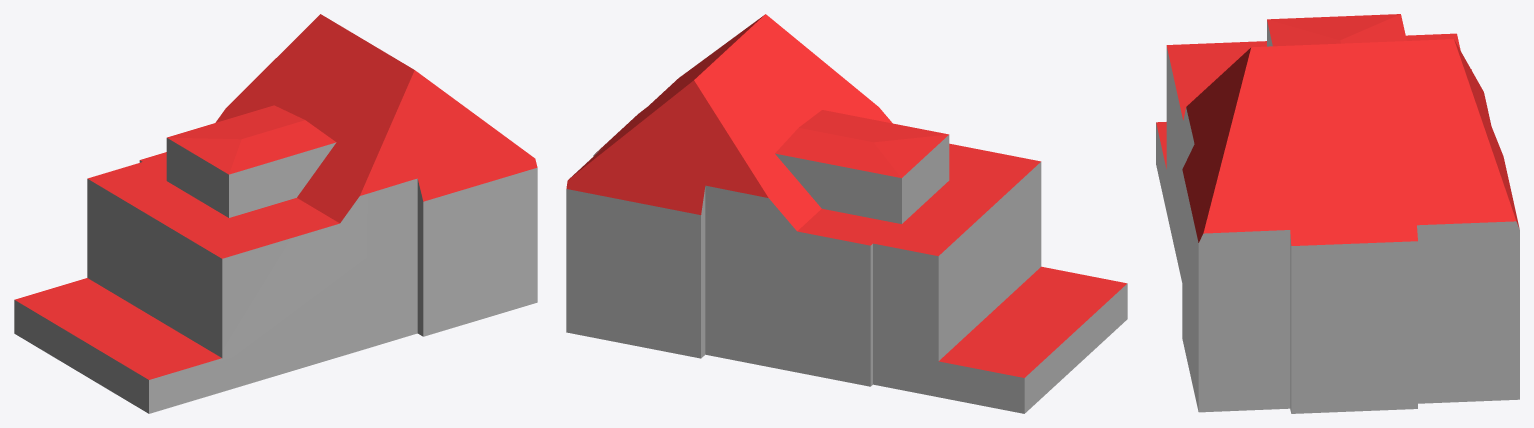
Rendered from DEBY_LOD2_4780232.dae.
The picture shows the model from 3 angles, left to right: view 1: azimuth 30°, elevation 25°; view 2: azimuth 150°, elevation 25°; view 3: azimuth 270°, elevation 25°; orthographic projection. The views are drawn at different scales.
Size of the model in its own units: 28.69 by 16.91 by 15.55.
